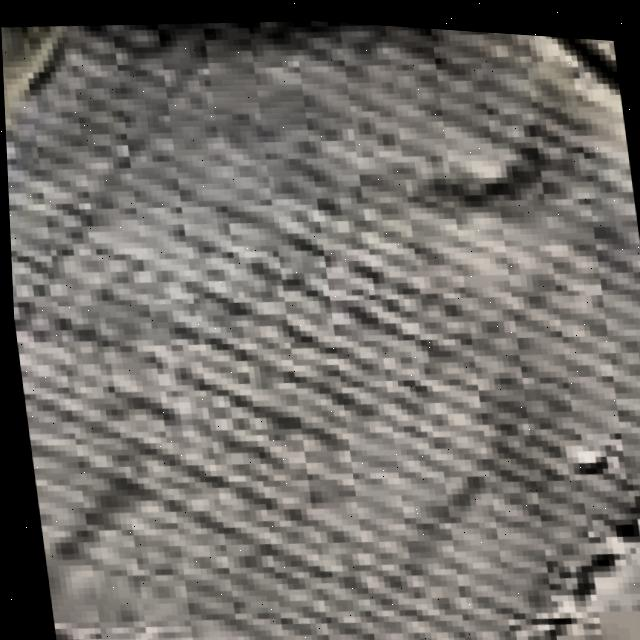paper: (4, 16, 640, 640)
